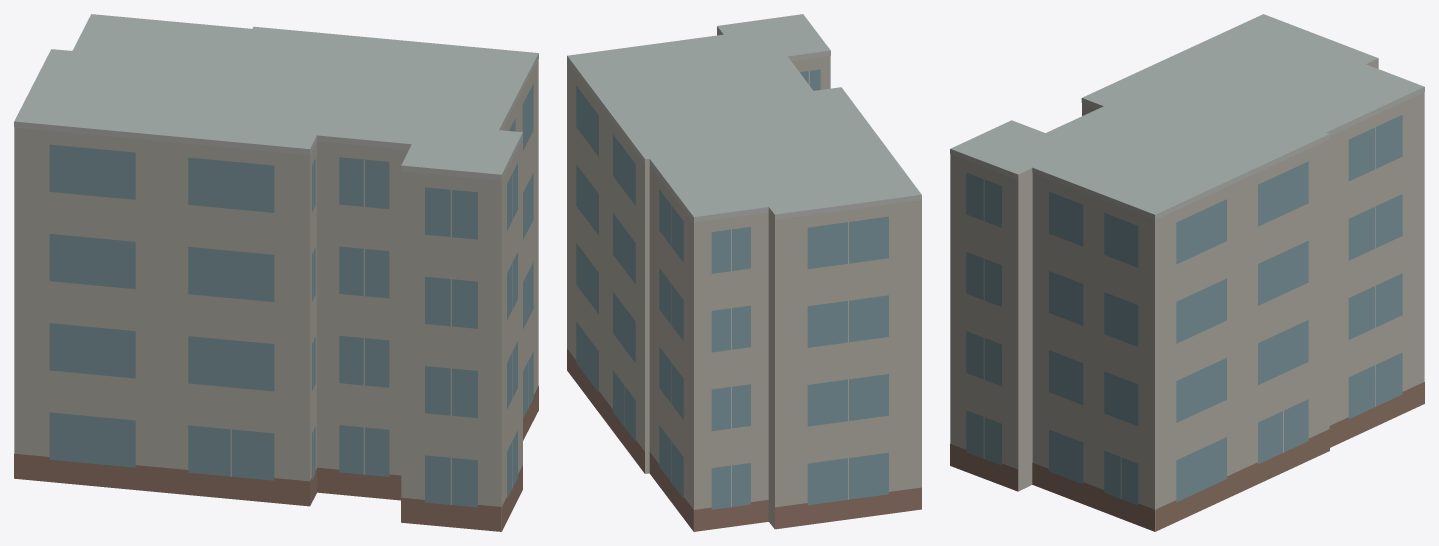
Rendered from survey-upis-32995018.glb.
The picture shows the model from 3 angles, left to right: view 1: azimuth 30°, elevation 25°; view 2: azimuth 150°, elevation 25°; view 3: azimuth 270°, elevation 25°; orthographic projection. The views are drawn at different scales.
Parts seen in each view (by area): view 1: survey-upis-32995018.tmp; view 2: survey-upis-32995018.tmp; view 3: survey-upis-32995018.tmp.
Boxes of the visible parts, x1,y1,x2,y2 form: survey-upis-32995018.tmp: [14, 14, 538, 531]; survey-upis-32995018.tmp: [567, 14, 921, 531]; survey-upis-32995018.tmp: [950, 14, 1424, 531].
Bounding box in the file's own units: 19.84 × 14.6 × 19.81.
